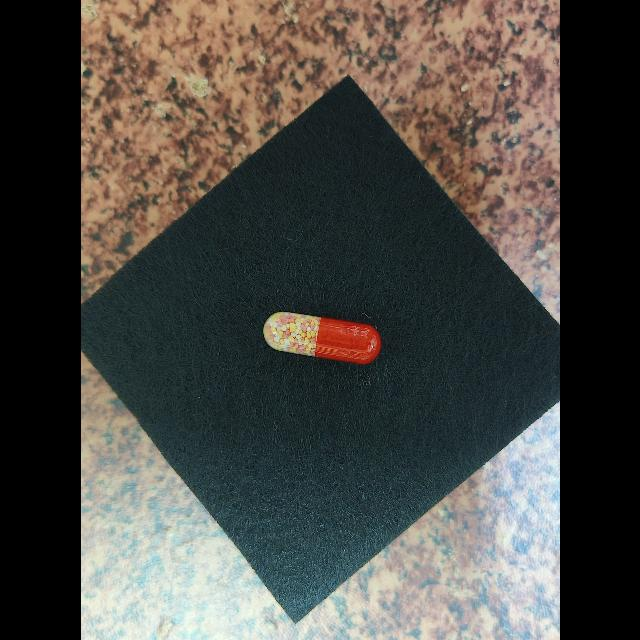Intact Capsule: (263, 312, 381, 365)
